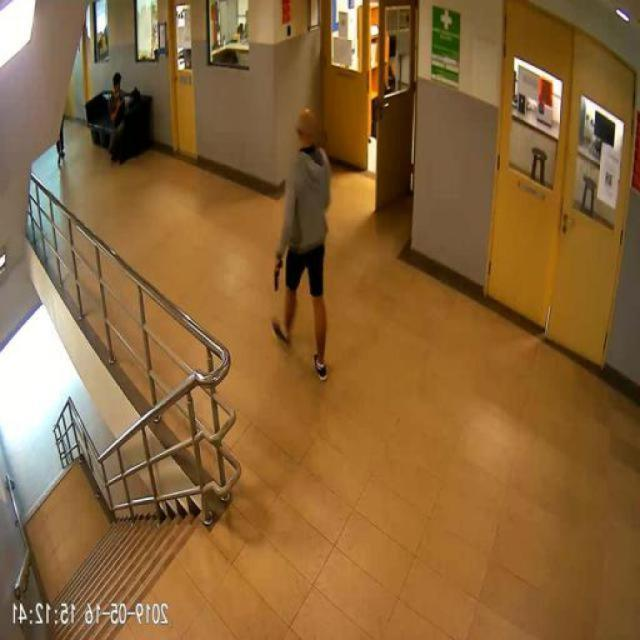pistol: (271, 252, 288, 292)
